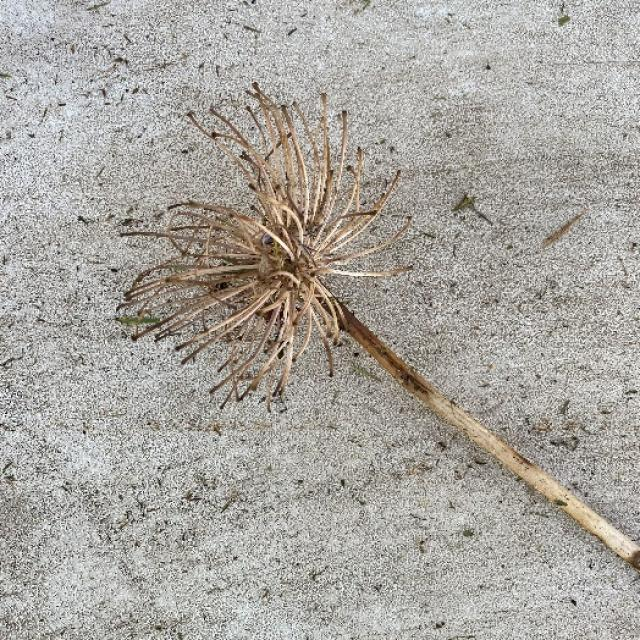organik: (145, 146, 639, 578)
